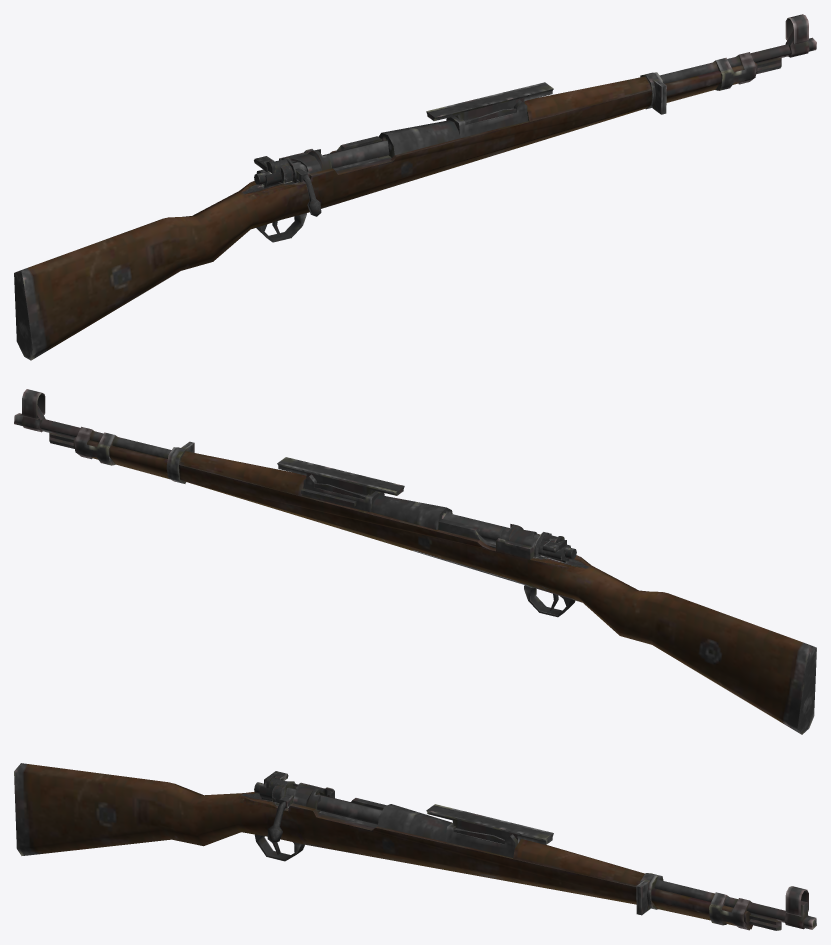
The model's file is ST_WEP_98k_Lod.FBX.
3 renders of one model, top to bottom at view 1: azimuth 30°, elevation 25°; view 2: azimuth 150°, elevation 25°; view 3: azimuth 330°, elevation 25°, orthographic.
Parts seen in each view (by area): view 1: ST_WEP_98k_Lod; view 2: ST_WEP_98k_Lod; view 3: ST_WEP_98k_Lod.
Part boxes in pixels (x1=…): ST_WEP_98k_Lod: x1=14, y1=14, x2=816, y2=360; ST_WEP_98k_Lod: x1=14, y1=389, x2=816, y2=734; ST_WEP_98k_Lod: x1=14, y1=763, x2=816, y2=930.
Bounding box in the file's own units: 111 × 20.41 × 8.34.
1 material, 1 textured.
